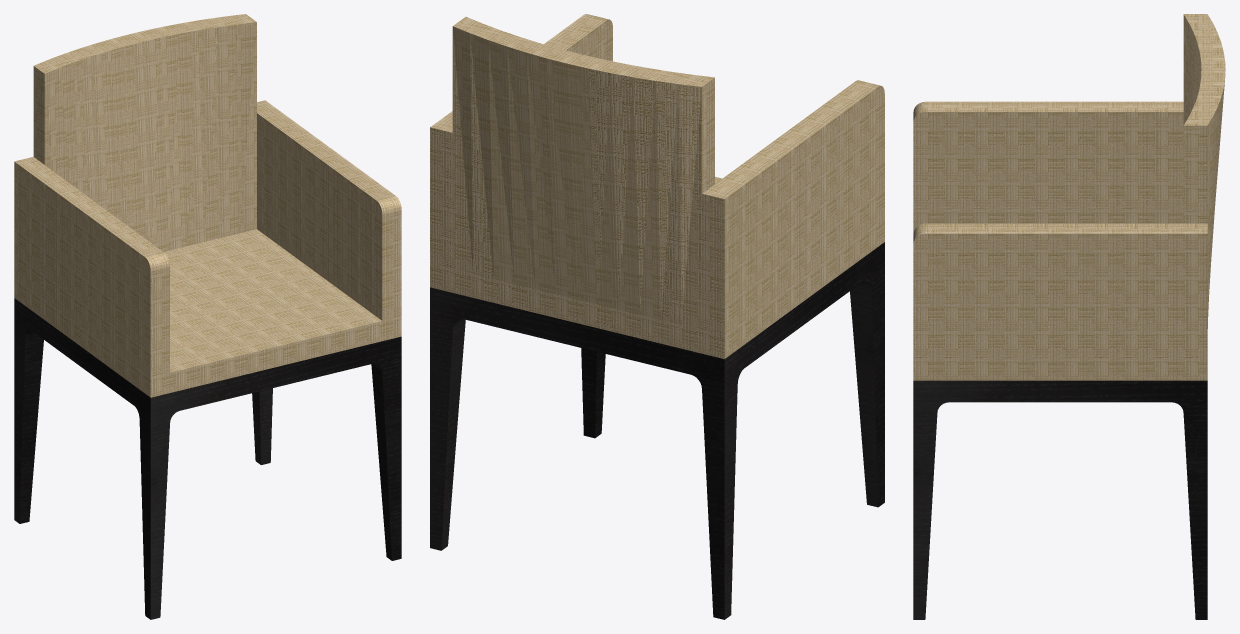
3 renders of one model, left to right at view 1: azimuth 30°, elevation 25°; view 2: azimuth 150°, elevation 25°; view 3: azimuth 270°, elevation 25°, orthographic. The views are drawn at different scales.
Parts seen in each view (by area): view 1: SketchUp (×3); view 2: SketchUp (×3); view 3: SketchUp (×4).
Boxes of the visible parts, left/top/right/bottom form: SketchUp (×3): left=14, top=14, right=401, bottom=619; SketchUp (×3): left=430, top=14, right=884, bottom=619; SketchUp (×4): left=913, top=14, right=1225, bottom=619.
Bounding box in the file's own units: 20.47 × 20.47 × 35.04.
2 materials, 2 textured.
